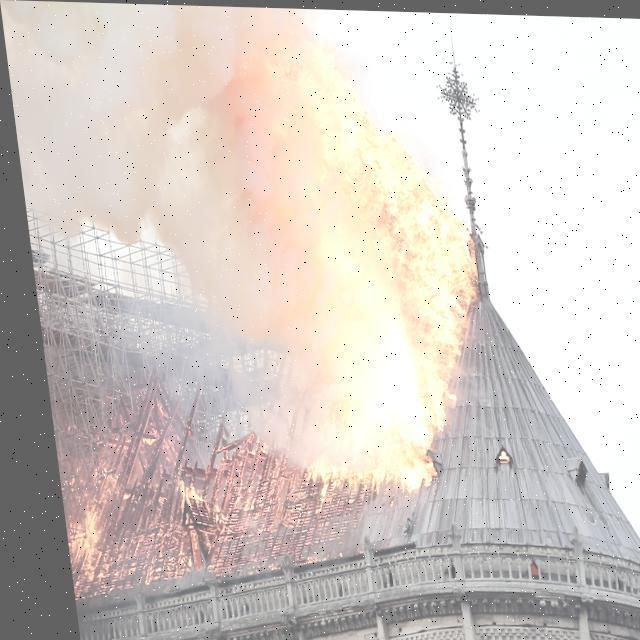Fire: (47, 8, 520, 582)
